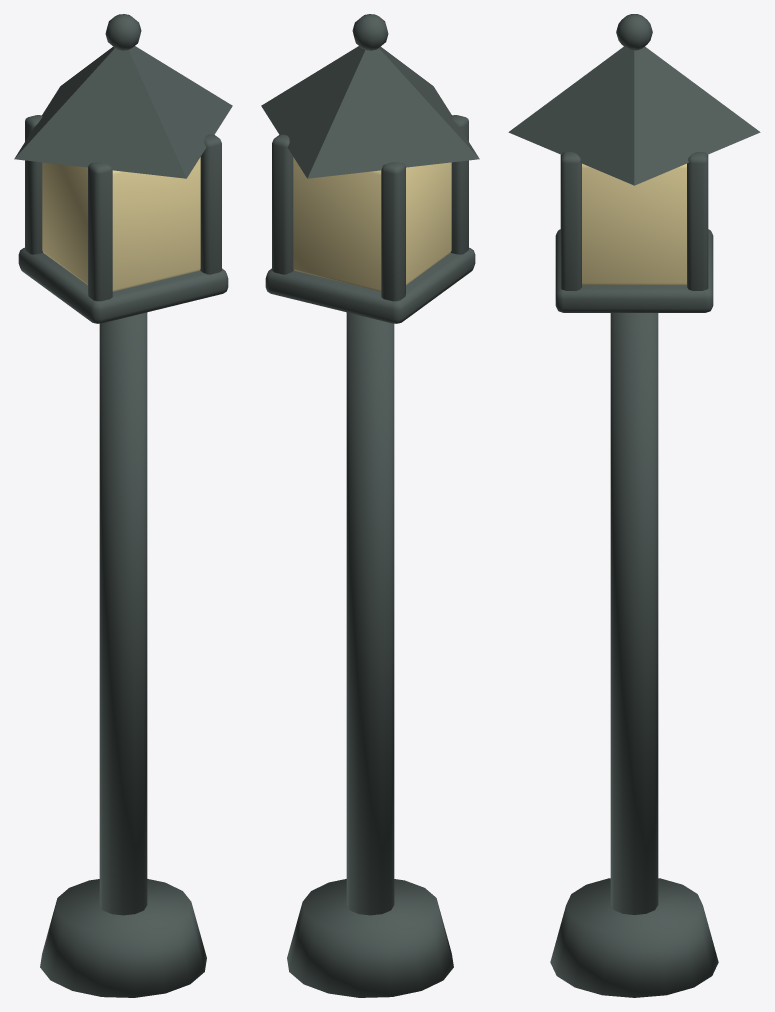
Rendered from lamp.glb.
3 views of the same model, side by side, from view 1: azimuth 30°, elevation 25°; view 2: azimuth 150°, elevation 25°; view 3: azimuth 270°, elevation 25° (orthographic).
Visible parts, largest first — view 1: lamp.001; view 2: lamp.001; view 3: lamp.001.
Boxes of the visible parts, bbox=[...] form: lamp.001: bbox=[14, 14, 232, 997]; lamp.001: bbox=[261, 14, 479, 997]; lamp.001: bbox=[508, 14, 760, 997].
Size of the model in its own units: 0.48 by 1.99 by 0.48.
